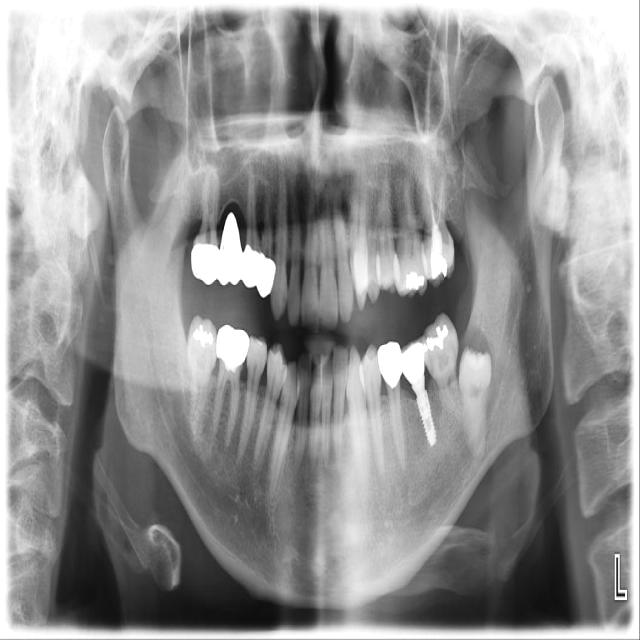Crown: (190, 213, 276, 299), (216, 323, 250, 372), (397, 337, 426, 384), (378, 339, 404, 389)
Filling: (427, 325, 449, 351), (193, 325, 214, 345), (405, 272, 424, 290)
Implant: (414, 378, 437, 445)
Root Canal Treatment: (438, 169, 442, 220), (429, 194, 435, 224), (428, 170, 430, 194)
impacted tooth: (457, 345, 493, 457)
